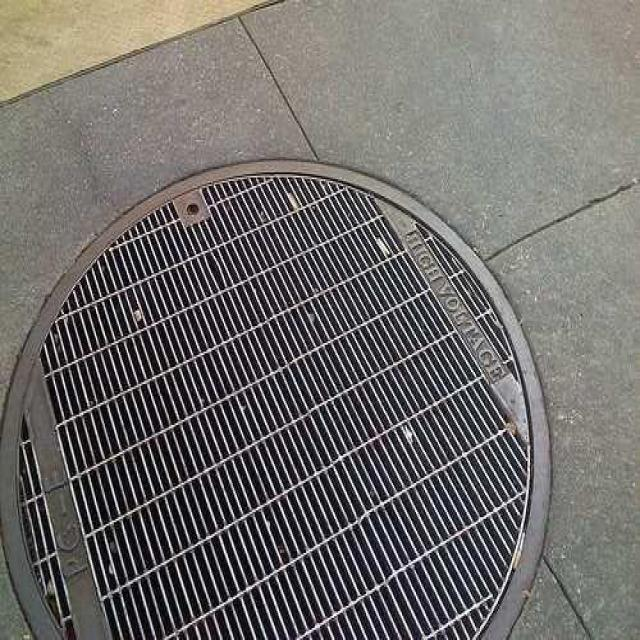manhole: (0, 162, 549, 637)
